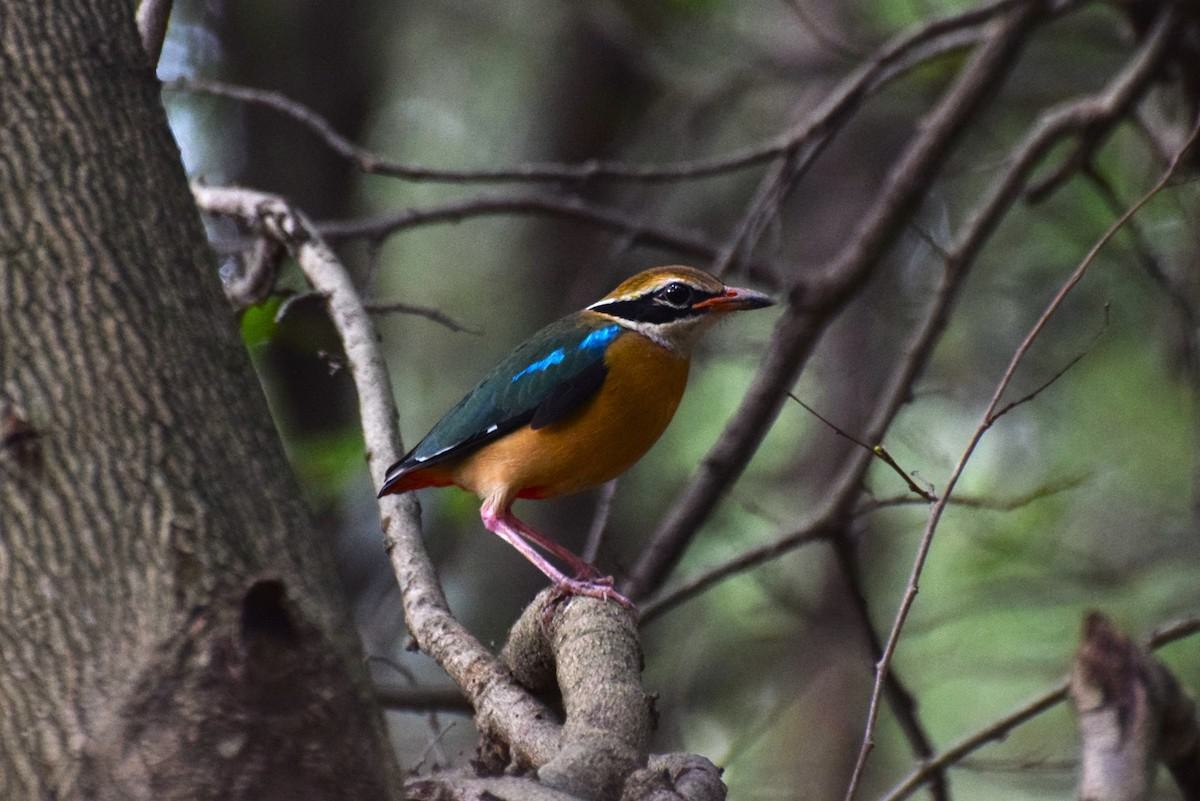pitta: (409, 265, 837, 594)
